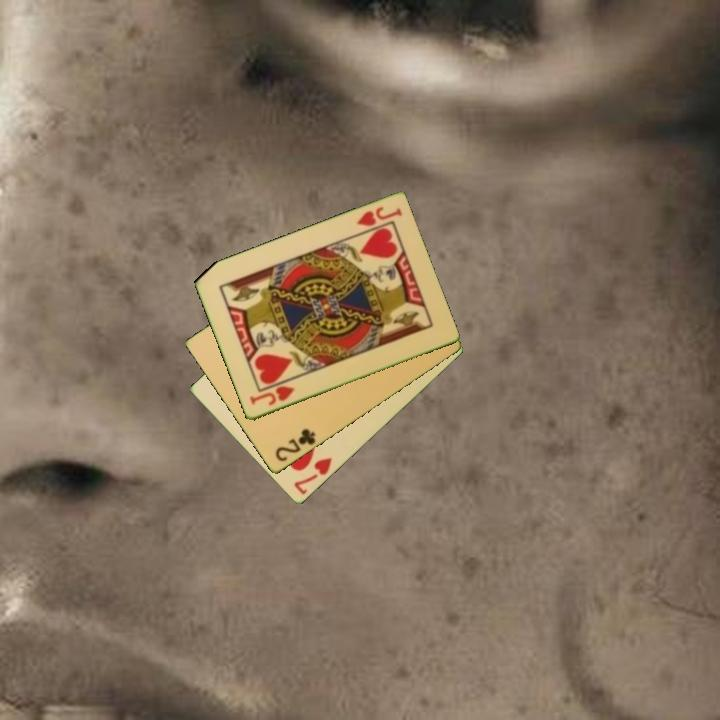2c: (271, 425, 319, 465)
7h: (290, 454, 335, 498)
Jh: (353, 203, 405, 230), (246, 382, 297, 409)
